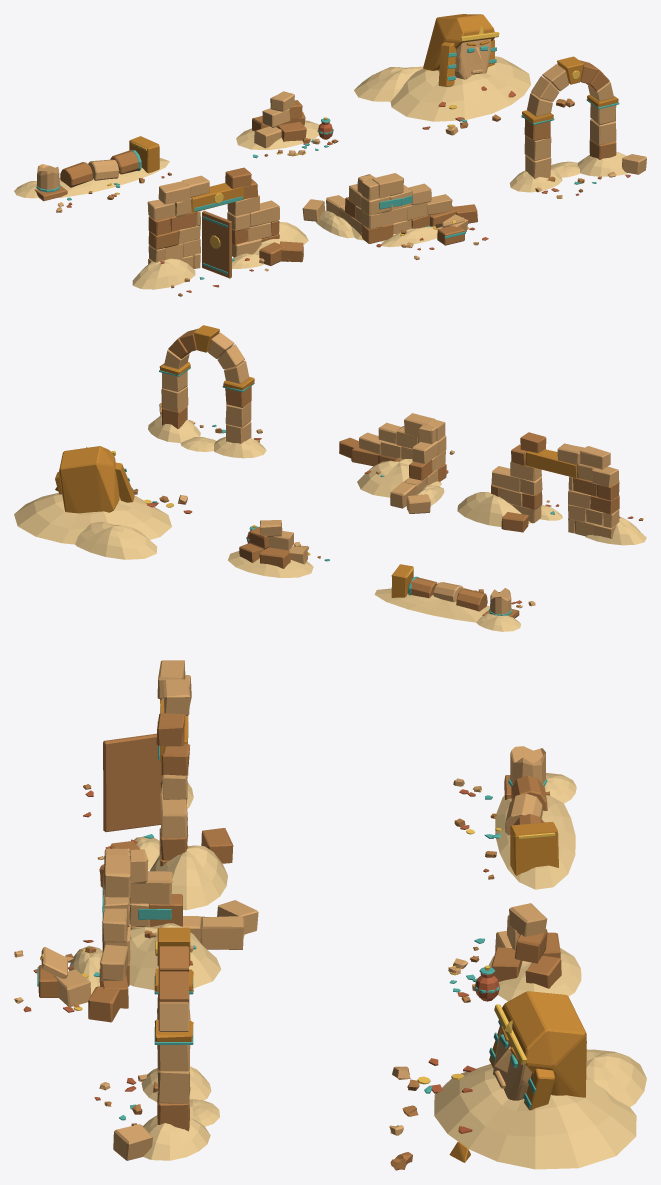
Rendered from sandstone-ruin-kit.glb.
The picture shows the model from 3 angles, top to bottom: view 1: azimuth 30°, elevation 25°; view 2: azimuth 150°, elevation 25°; view 3: azimuth 270°, elevation 25°; orthographic projection. The views are drawn at different scales.
Visible parts, largest first — view 1: Ruin_StatueHead_Sand, Ruin_WallDoorway_Sandstone, Ruin_CrumbledCorner_Sandstone, Ruin_Archway_Sandstone, Ruin_WallDoorway_SandstoneDark, Ruin_StatueHead_Ochre, Ruin_WallDoorway_Sand, Ruin_Archway_Sand, Ruin_CrumbledCorner_SandstoneDark, Door, Ruin_Archway_SandstoneDark, Ruin_ToppledColumn_SandstoneDark (+10 smaller); view 2: Ruin_StatueHead_Sand, Ruin_WallDoorway_Sandstone, Ruin_CrumbledCorner_Sandstone, Ruin_StatueHead_Ochre, Ruin_Archway_Sandstone, Ruin_WallDoorway_SandstoneDark, Ruin_WallDoorway_Sand, Ruin_ToppledColumn_Sand, Ruin_Archway_Sand, Ruin_CrumbledCorner_Sand, Ruin_Archway_SandstoneDark, Ruin_CrumbledCorner_SandstoneDark (+8 smaller); view 3: Ruin_StatueHead_Sand, Ruin_CrumbledCorner_Sandstone, Ruin_StatueHead_Ochre, Door, Ruin_Archway_Sandstone, Ruin_ToppledColumn_Sand, Ruin_CrumbledCorner_Sand, Ruin_WallDoorway_Sand, Ruin_Archway_Sand, Ruin_WallDoorway_SandstoneDark, Ruin_WallDoorway_Sandstone, Ruin_BlockPile_SandstoneDark (+10 smaller).
Part boxes in pixels (bbox=[...]): Ruin_StatueHead_Sand: bbox=[354, 56, 530, 121]; Ruin_WallDoorway_Sandstone: bbox=[147, 175, 279, 271]; Ruin_CrumbledCorner_Sandstone: bbox=[302, 173, 478, 259]; Ruin_Archway_Sandstone: bbox=[524, 64, 646, 198]; Ruin_WallDoorway_SandstoneDark: bbox=[148, 167, 303, 296]; Ruin_StatueHead_Ochre: bbox=[423, 14, 532, 93]; Ruin_WallDoorway_Sand: bbox=[132, 222, 308, 289]; Ruin_Archway_Sand: bbox=[509, 152, 627, 192]; Ruin_CrumbledCorner_SandstoneDark: bbox=[345, 197, 477, 247]; Door: bbox=[202, 210, 231, 278]; Ruin_Archway_SandstoneDark: bbox=[524, 60, 616, 192]; Ruin_ToppledColumn_SandstoneDark: bbox=[34, 150, 171, 201]; Ruin_StatueHead_Sand: bbox=[14, 493, 171, 559]; Ruin_WallDoorway_Sandstone: bbox=[491, 443, 619, 538]; Ruin_CrumbledCorner_Sandstone: bbox=[359, 413, 454, 513]; Ruin_StatueHead_Ochre: bbox=[55, 446, 134, 513]; Ruin_Archway_Sandstone: bbox=[159, 332, 262, 443]; Ruin_WallDoorway_SandstoneDark: bbox=[491, 432, 643, 532]; Ruin_WallDoorway_Sand: bbox=[457, 492, 646, 545]; Ruin_ToppledColumn_Sand: bbox=[374, 588, 520, 631]; Ruin_Archway_Sand: bbox=[148, 415, 266, 458]; Ruin_CrumbledCorner_Sand: bbox=[357, 459, 444, 510]; Ruin_Archway_SandstoneDark: bbox=[162, 329, 251, 433]; Ruin_CrumbledCorner_SandstoneDark: bbox=[339, 437, 446, 481]; Ruin_StatueHead_Sand: bbox=[434, 1049, 646, 1169]; Ruin_CrumbledCorner_Sandstone: bbox=[14, 848, 258, 1006]; Ruin_StatueHead_Ochre: bbox=[449, 991, 586, 1162]; Door: bbox=[103, 733, 162, 831]; Ruin_Archway_Sandstone: bbox=[99, 1002, 190, 1160]; Ruin_ToppledColumn_Sand: bbox=[495, 773, 576, 889]; Ruin_CrumbledCorner_Sand: bbox=[69, 923, 245, 994]; Ruin_WallDoorway_Sand: bbox=[134, 782, 227, 910]; Ruin_Archway_Sand: bbox=[141, 1066, 219, 1160]; Ruin_WallDoorway_SandstoneDark: bbox=[83, 713, 233, 887]; Ruin_WallDoorway_Sandstone: bbox=[97, 660, 191, 859]; Ruin_BlockPile_SandstoneDark: bbox=[461, 929, 561, 1002].
Bounding box in the file's own units: 75.31 × 15.66 × 50.09.
